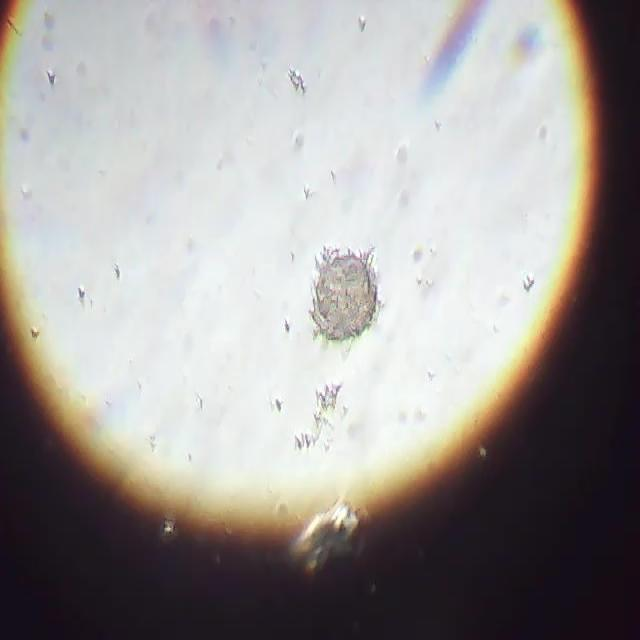alexandrium: (309, 245, 383, 342)
